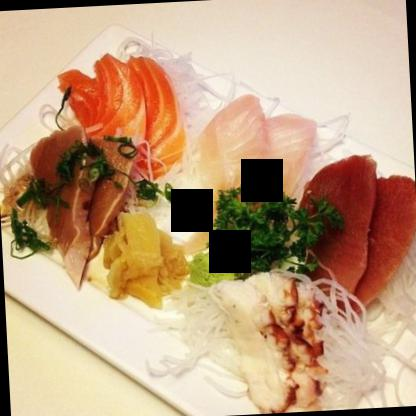salmon: (57, 47, 188, 184)
tuna: (300, 151, 415, 318)
